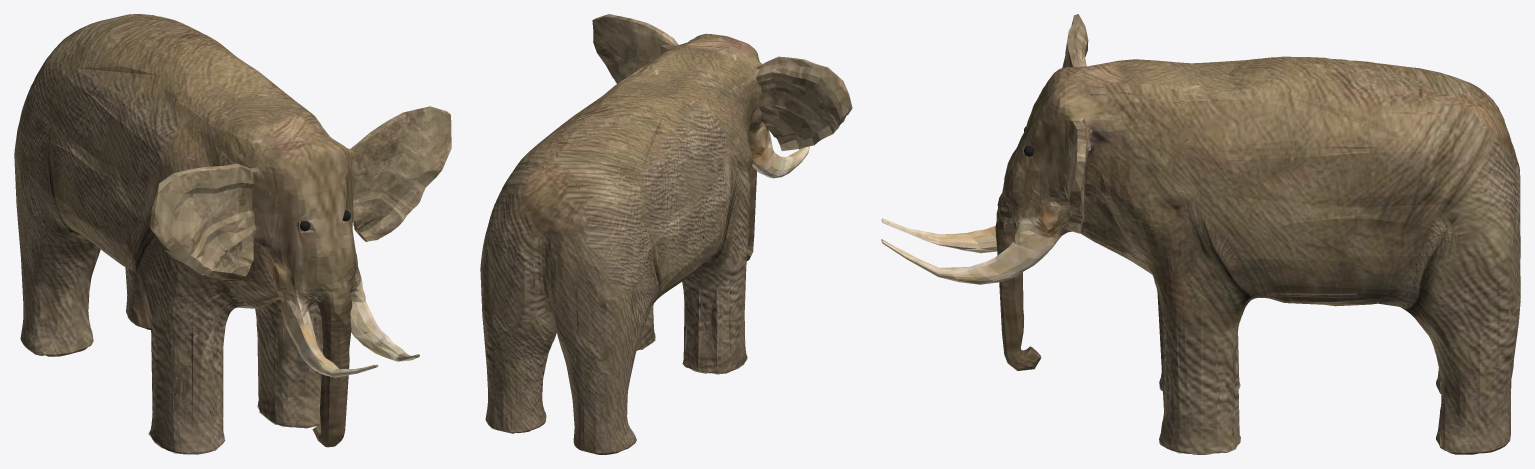
File: elephant.fbx
3 views of the same model, side by side, from view 1: azimuth 30°, elevation 25°; view 2: azimuth 150°, elevation 25°; view 3: azimuth 270°, elevation 25° (orthographic). The views are drawn at different scales.
Parts seen in each view (by area): view 1: elephant 3; view 2: elephant 3; view 3: elephant 3.
Boxes of the visible parts, x1,y1,x2,y2 form: elephant 3: [14, 14, 451, 454]; elephant 3: [480, 14, 852, 454]; elephant 3: [881, 14, 1520, 454].
Bounding box in the file's own units: 181 × 194 × 321.
2 materials, 1 textured.
